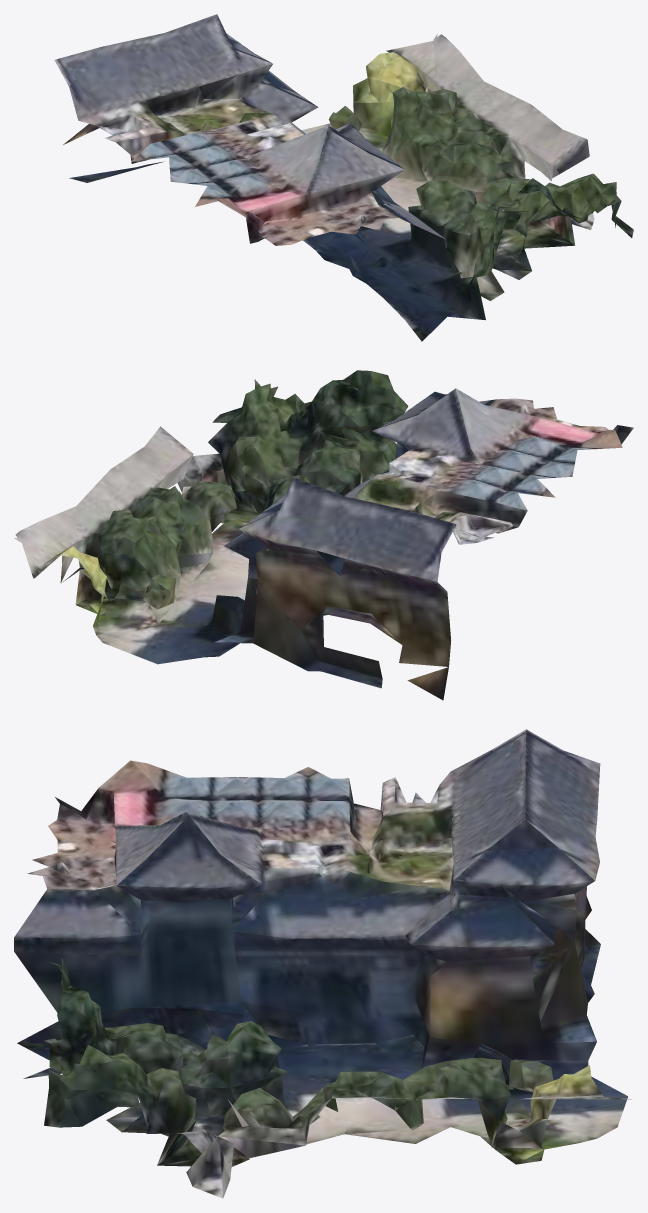
The model's file is Tile_+001_+002.glb.
The picture shows the model from 3 angles, top to bottom: view 1: azimuth 30°, elevation 25°; view 2: azimuth 150°, elevation 25°; view 3: azimuth 270°, elevation 25°; orthographic projection. The views are drawn at different scales.
Visible parts, largest first — view 1: rtc; view 2: rtc; view 3: rtc.
Part boxes in pixels (x1,y1,x2,y2): rtc: [54, 14, 633, 341]; rtc: [14, 370, 633, 700]; rtc: [14, 729, 631, 1198].
Bounding box in the file's own units: 60.28 × 23.87 × 60.16.
Materials: 1 (1 with a texture image).
